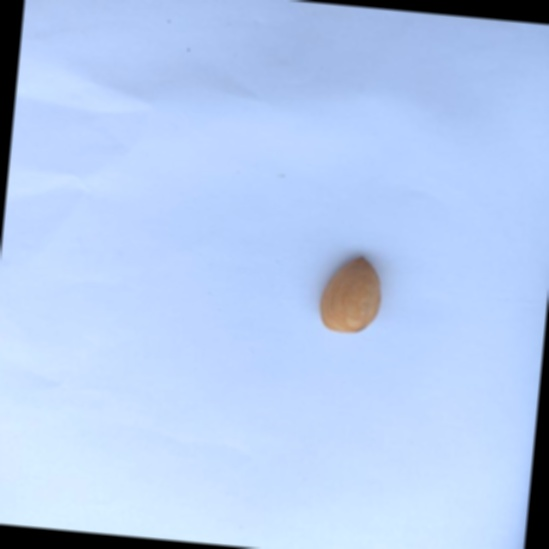grade2: (312, 250, 388, 339)
